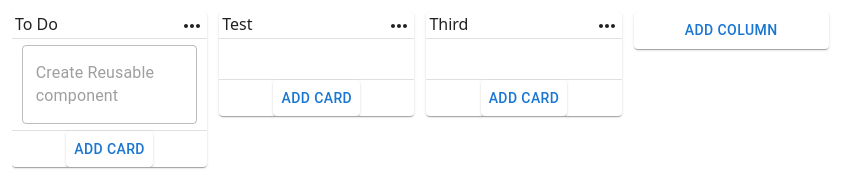
Scenario: should not contain add column textbox after cancel click event
Click the button "Add Column".
click(731, 30)  # box [677,12,786,48]
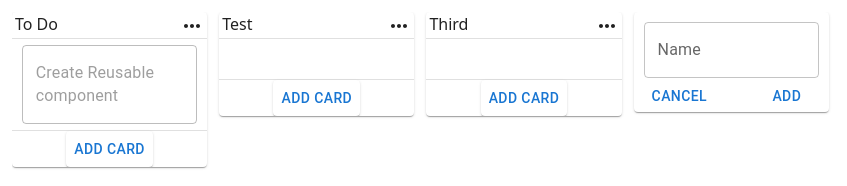
Type "To Do" into the field labelled "Name".
click(731, 50); type("To Do")  # box [644,22,819,78]
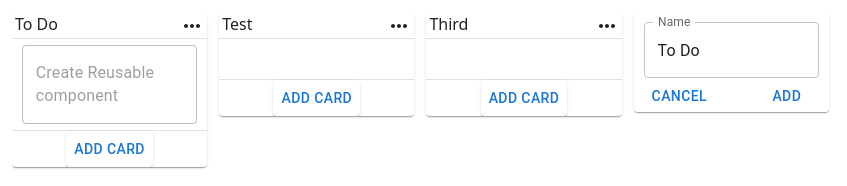
Click the button "Cancel".
click(679, 96)  # box [644,78,715,114]
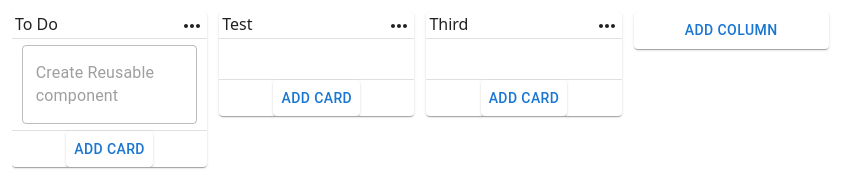
Expected: the label labelled "Name" is gone
